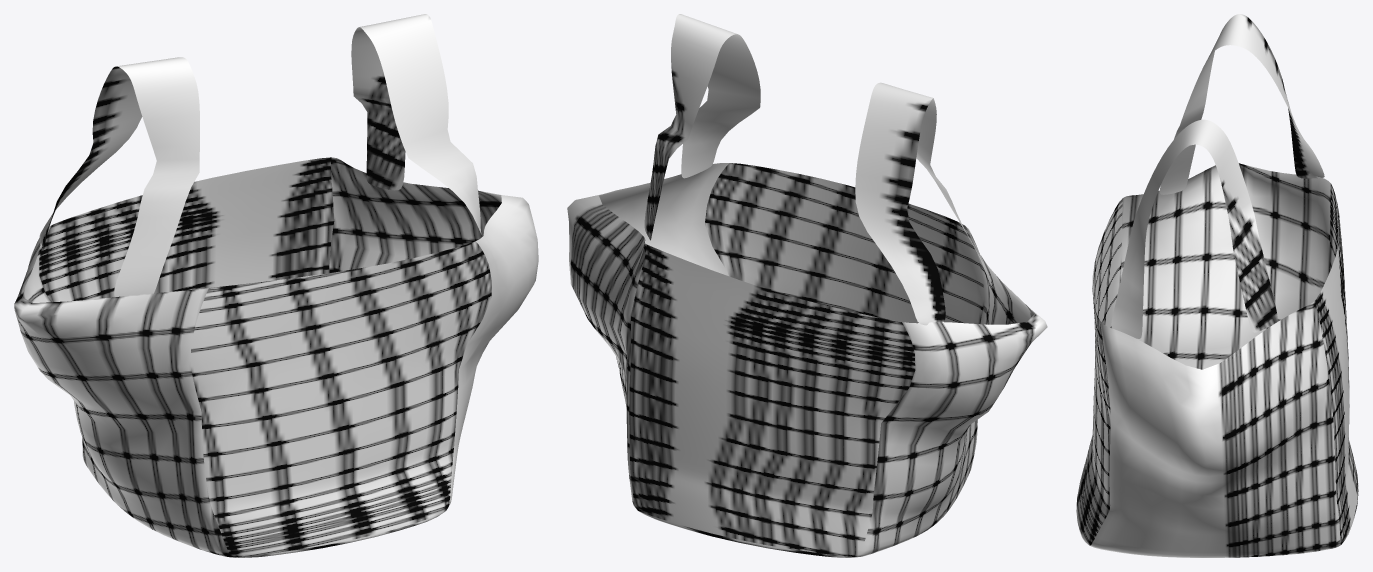
Rendered from totebag.obj.
3 views of the same model, side by side, from view 1: azimuth 30°, elevation 25°; view 2: azimuth 150°, elevation 25°; view 3: azimuth 270°, elevation 25° (orthographic). The views are drawn at different scales.
Visible parts, largest first — view 1: Mesh_(2); view 2: Mesh_(2); view 3: Mesh_(2).
Part boxes in pixels (x1,y1,x2,y2): Mesh_(2): (14, 14, 538, 557); Mesh_(2): (567, 14, 1047, 557); Mesh_(2): (1076, 14, 1358, 557).
Bounding box in the file's own units: 0.5199 × 0.4483 × 0.2699.
